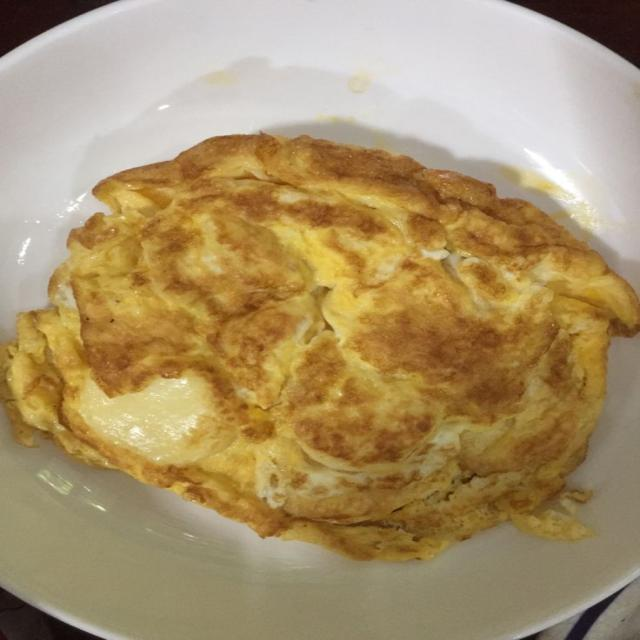omelette: (2, 135, 639, 559)
